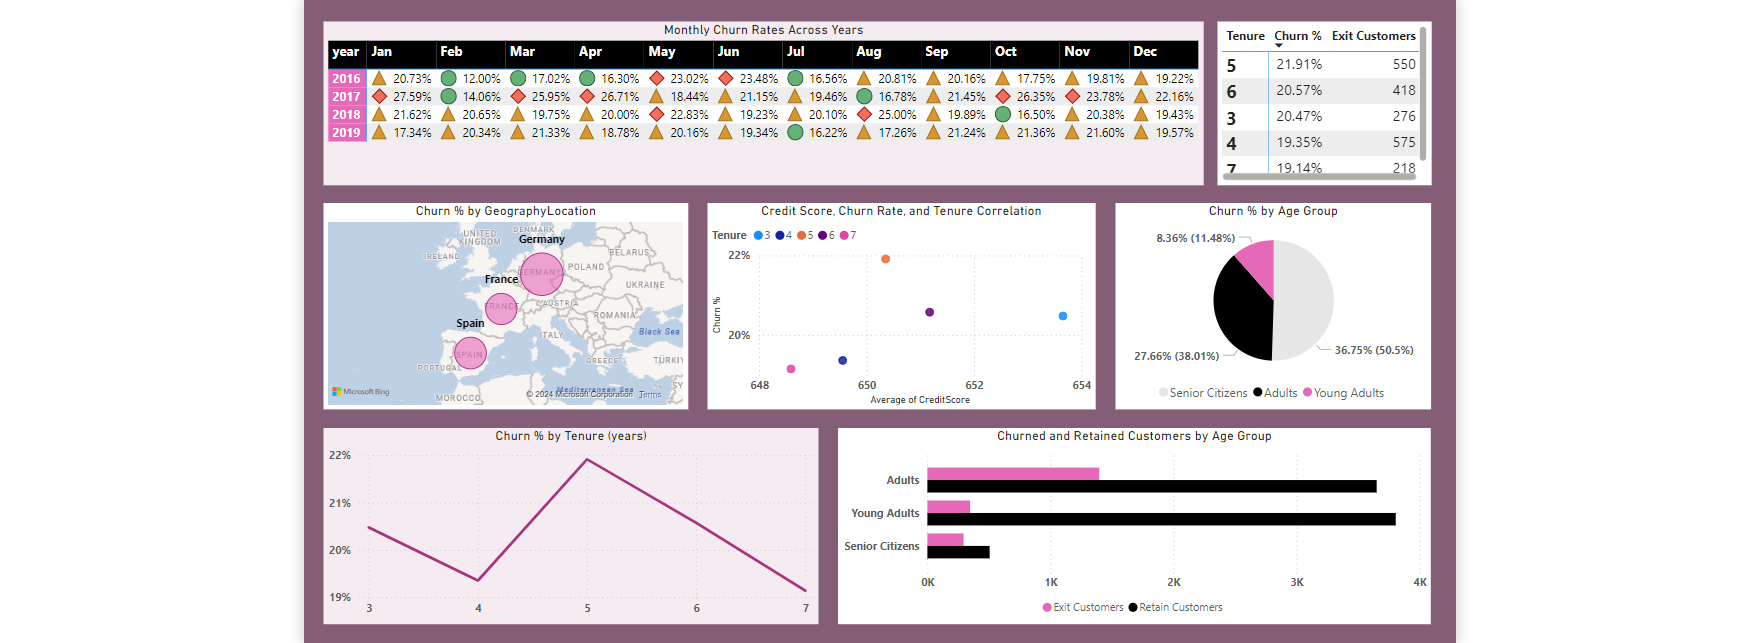

The dashboard page shown, as its layout file describes it:
{"tool":"powerbi","page":{"name":"Churn%","canvas":[1280,720],"ordinal":1},"visuals":[{"type":"pivotTable","title":"Monthly Churn Rates Across Years","fields":{"Rows":["DateMaster.year"],"Columns":["DateMaster.Month Name"],"Values":["Measure Table.Churn %"]},"box":[21.5,24.4,978.3,181.9],"z":0},{"type":"scatterChart","title":"Credit Score, Churn Rate, and Tenure Correlation","fields":{"X":["Avg(Bank_Churn.CreditScore)"],"Y":["Measure Table.Churn %"],"Series":["Bank_Churn.Tenure"]},"box":[448.3,226.3,431.1,229.2],"z":1000},{"type":"map","fields":{"Size":["Measure Table.Churn %"],"Category":["Geography.GeographyLocation"]},"box":[21.5,226.3,405.4,229.2],"z":2000},{"type":"lineChart","title":"Churn % by Tenure (years)","fields":{"Category":["Bank_Churn.Tenure"],"Y":["Measure Table.Churn %"]},"box":[21.5,477,550,217.7],"z":3000},{"type":"clusteredBarChart","title":"Churned and Retained Customers by Age Group","fields":{"Category":["Bank_Churn.Age Group"],"Y":["Measure Table.Exit Customers","Measure Table.Retain Customers"]},"box":[593,477,658.9,217.7],"z":4000},{"type":"pieChart","fields":{"Category":["Bank_Churn.Age Group"],"Y":["Measure Table.Churn %"]},"box":[902.4,226.3,350.9,229.2],"z":5000},{"type":"pivotTable","fields":{"Rows":["Bank_Churn.Tenure"],"Values":["Measure Table.Churn %","Measure Table.Exit Customers"]},"box":[1015.6,24.4,237.8,181.9],"z":6000}]}

Visuals, with their boxes in screenshot pixels (x1, y1, x2, y2):
"Monthly Churn Rates Across Years" pivotTable: BBox(304, 8, 1194, 174)
"Credit Score, Churn Rate, and Tenure Correlation" scatterChart: BBox(692, 192, 1085, 401)
map - Measure Table.Churn % x Geography.GeographyLocation: BBox(304, 192, 673, 401)
"Churn % by Tenure (years)" lineChart: BBox(304, 421, 804, 619)
"Churned and Retained Customers by Age Group" clusteredBarChart: BBox(824, 421, 1424, 619)
pieChart - Bank_Churn.Age Group x Measure Table.Churn %: BBox(1106, 192, 1425, 401)
pivotTable - Bank_Churn.Tenure x Measure Table.Churn %: BBox(1209, 8, 1425, 174)
